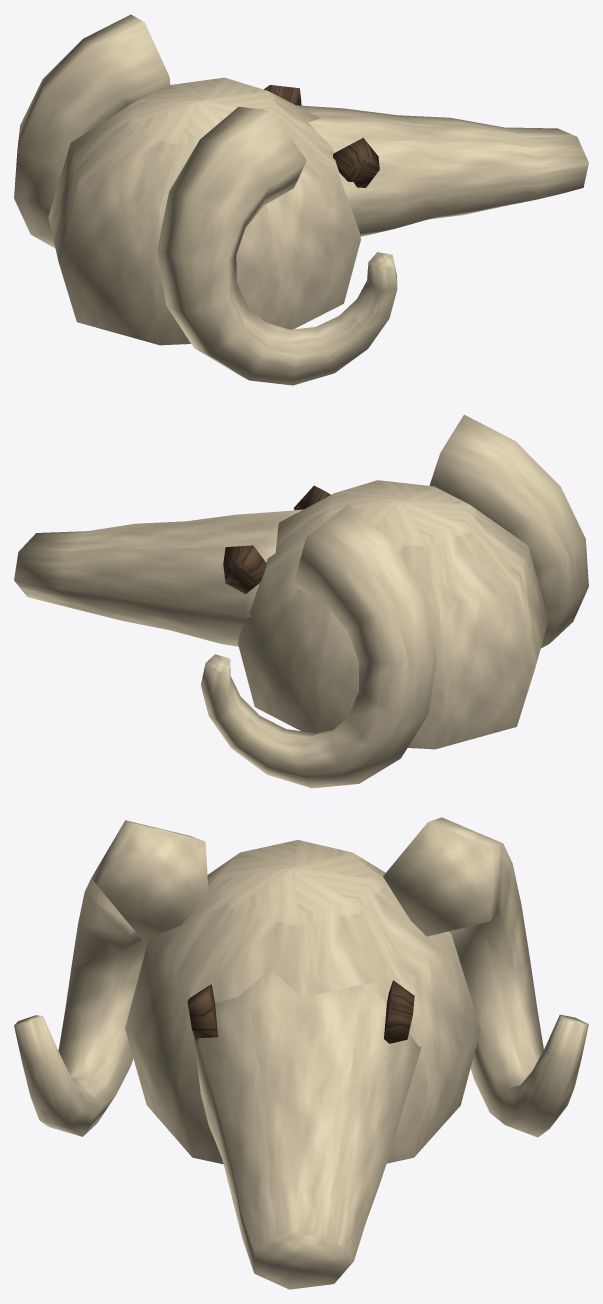
File: Skull_Beast_1_LOD1.gltf
The picture shows the model from 3 angles, top to bottom: view 1: azimuth 30°, elevation 25°; view 2: azimuth 150°, elevation 25°; view 3: azimuth 270°, elevation 25°; orthographic projection. The views are drawn at different scales.
Visible parts, largest first — view 1: Skull_Beast_1_LOD1; view 2: Skull_Beast_1_LOD1; view 3: Skull_Beast_1_LOD1.
Boxes of the visible parts, x1,y1,x2,y2 form: Skull_Beast_1_LOD1: (14,14,588,385); Skull_Beast_1_LOD1: (14,414,588,788); Skull_Beast_1_LOD1: (14,817,588,1289).
Size of the model in its own units: 2.96 by 1.41 by 2.42.
Materials: 2 (2 with a texture image).
